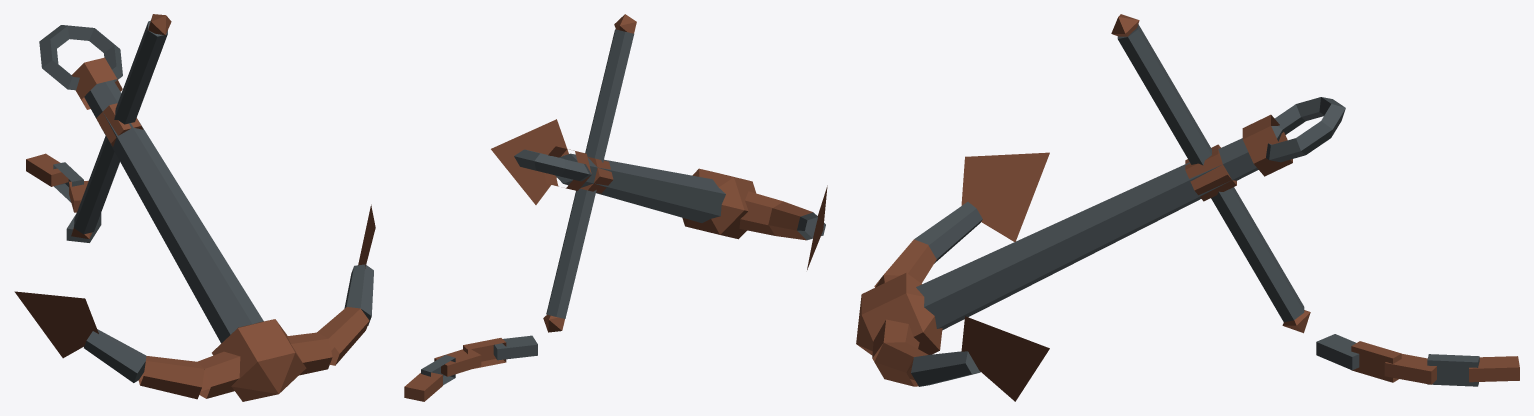
Rendered from anchor.glb.
3 views of the same model, side by side, from view 1: azimuth 30°, elevation 25°; view 2: azimuth 150°, elevation 25°; view 3: azimuth 270°, elevation 25° (orthographic). The views are drawn at different scales.
Visible parts, largest first — view 1: Body; view 2: Body; view 3: Body.
Boxes of the visible parts, <box> form: Body: <box>14,14,375,401</box>; Body: <box>404,14,827,401</box>; Body: <box>856,14,1519,401</box>.
Bounding box in the file's own units: 1.73 × 1.43 × 2.48.
